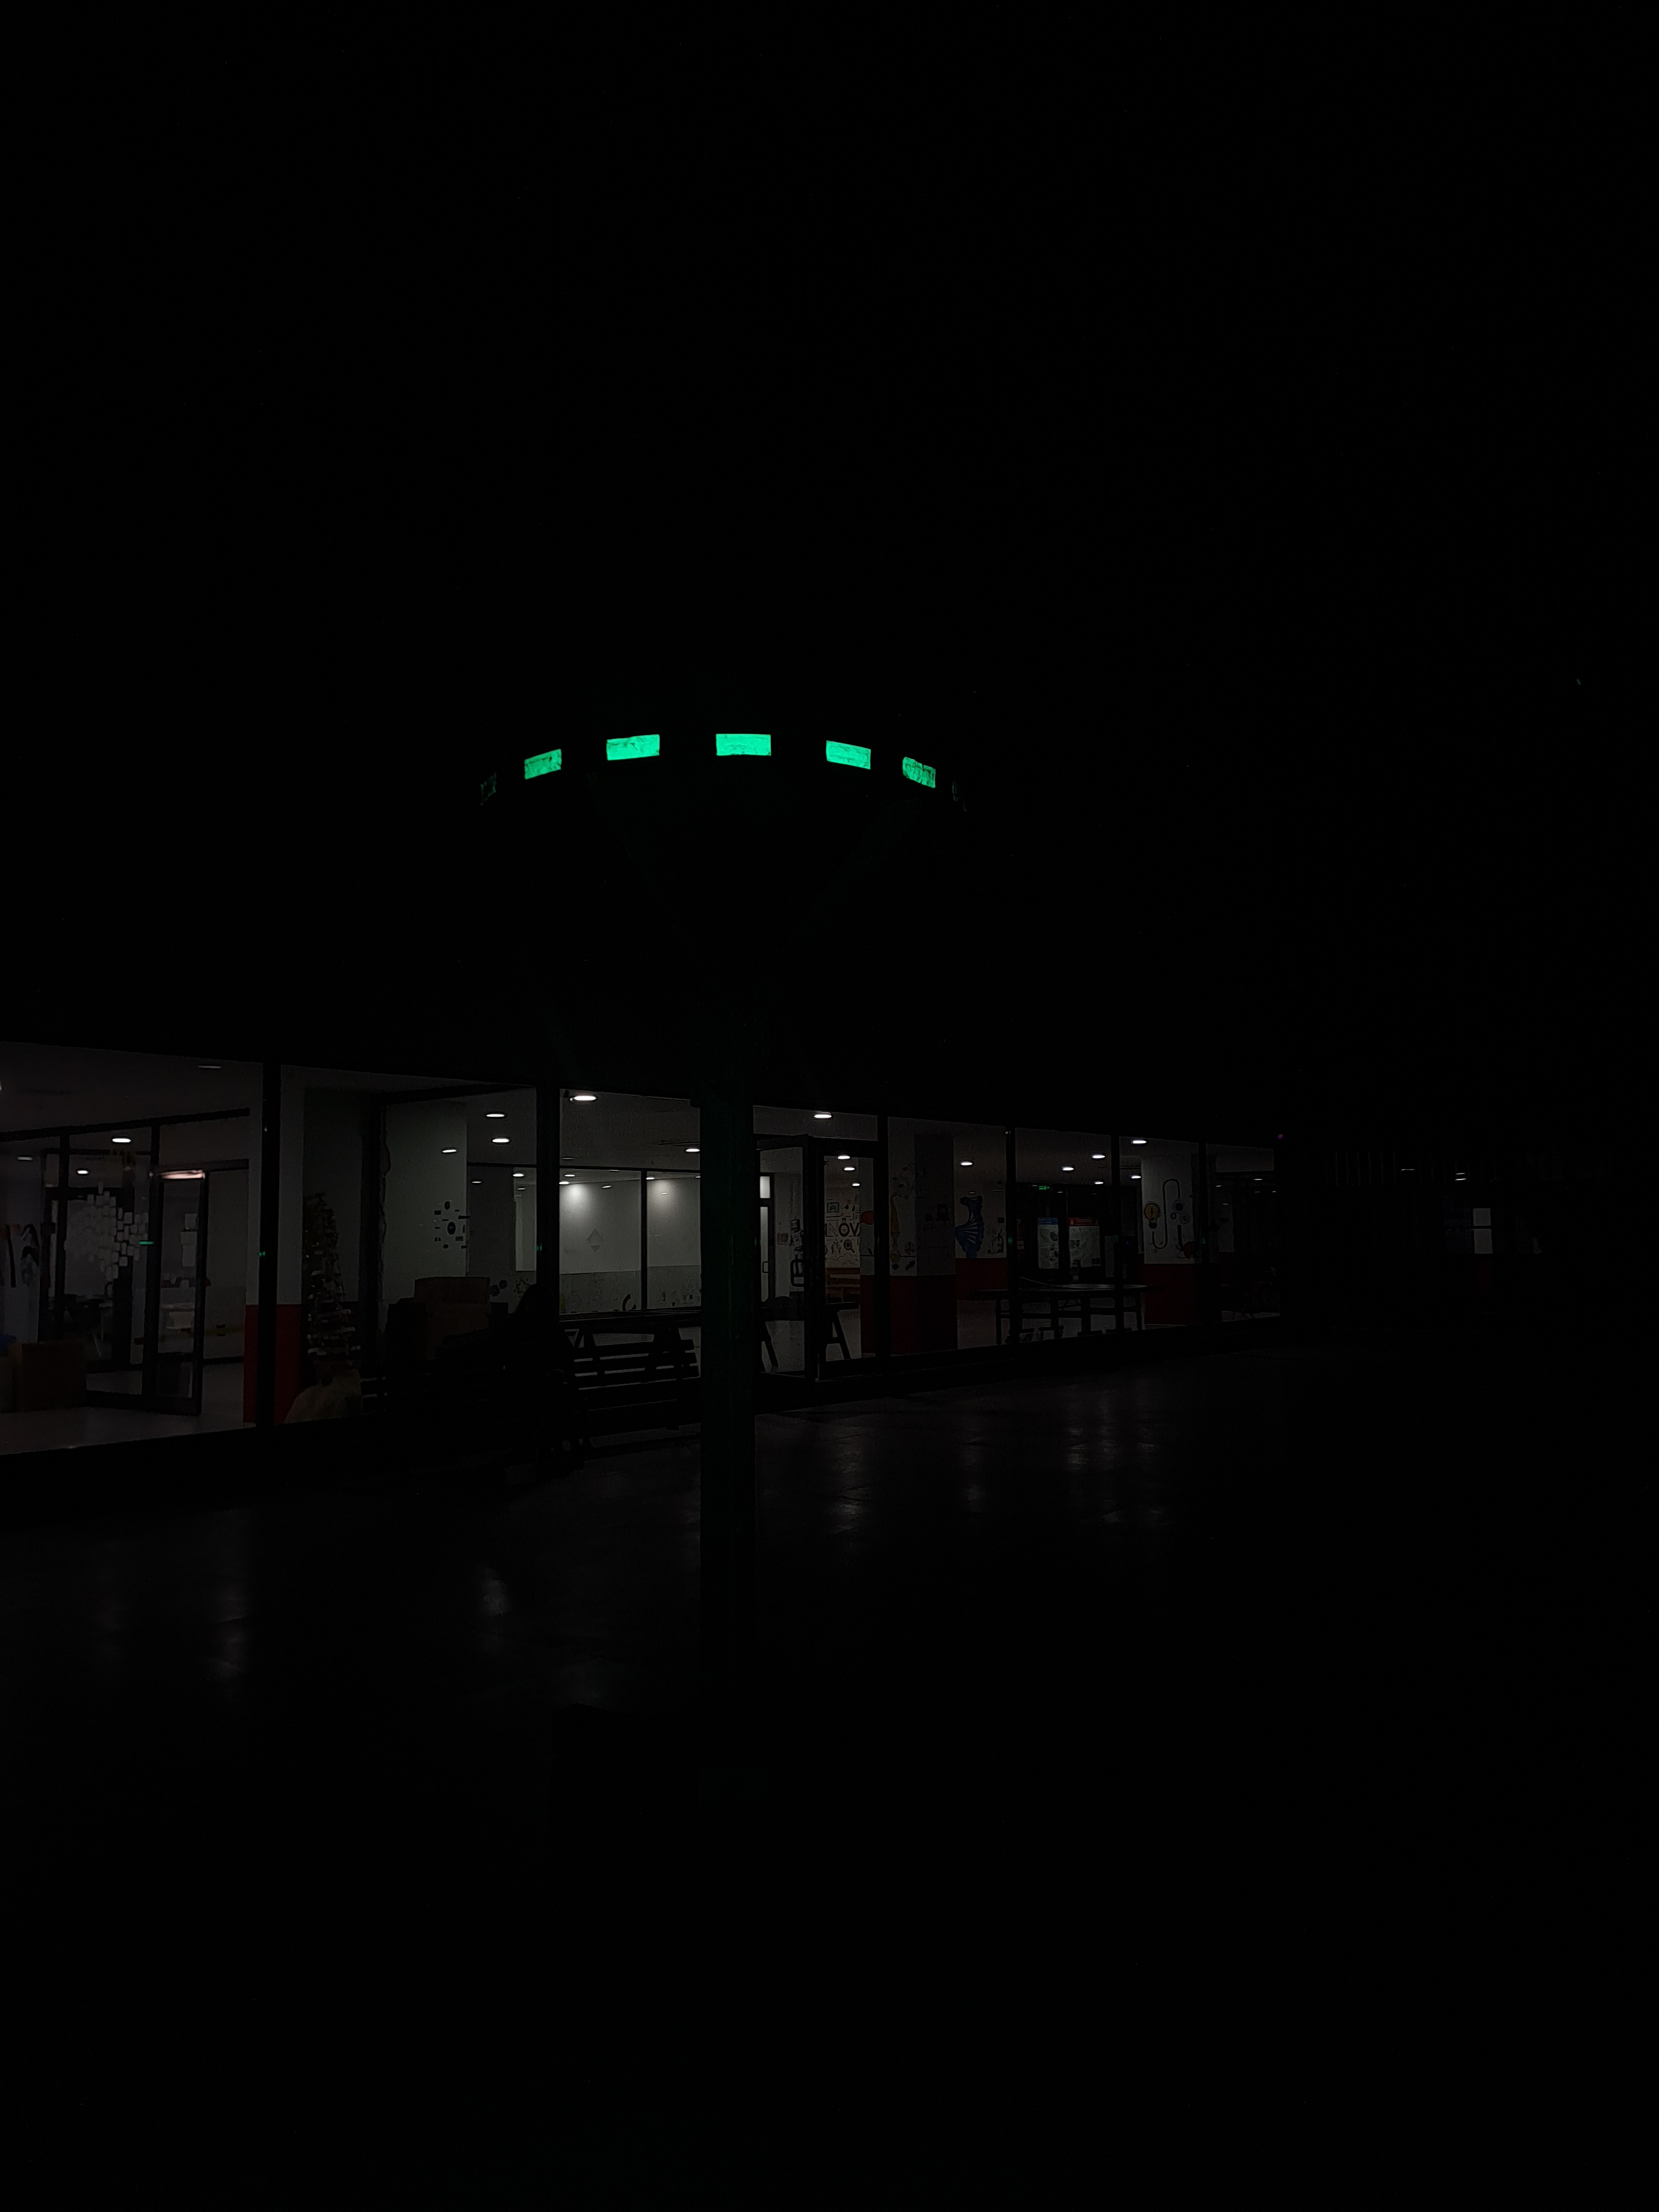hoop: (518, 728, 941, 796)
